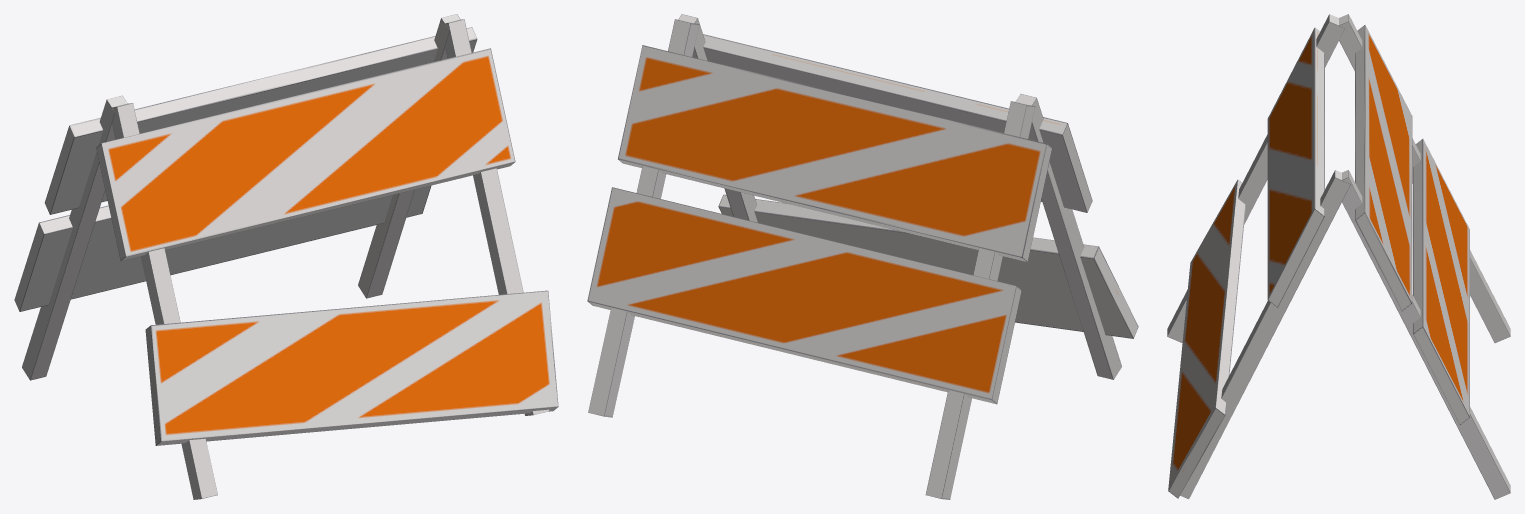
The model's file is RoadBlock_3.fbx.
3 views of the same model, side by side, from view 1: azimuth 30°, elevation 25°; view 2: azimuth 150°, elevation 25°; view 3: azimuth 270°, elevation 25° (orthographic). The views are drawn at different scales.
Visible parts, largest first — view 1: pasted__pCube2, pasted__pCube1, pasted__pasted__pCube3 (×3), pasted__pasted__pCube2, pasted__pasted__pCube4, pasted__pCube3; view 2: pasted__pasted__pCube4, pasted__pasted__pCube2, pasted__pCube2, pasted__pasted__pCube3 (×3), pasted__pCube1, pasted__pCube3; view 3: pasted__pCube2, pasted__pasted__pCube4, pasted__pasted__pCube2, pasted__pCube1, pasted__pasted__pCube3 (×3), pasted__pCube3.
Boxes of the visible parts, left/top/right/bottom form: pasted__pCube2: left=145, top=290, right=558, bottom=445; pasted__pCube1: left=96, top=48, right=515, bottom=260; pasted__pasted__pCube3 (×3): left=22, top=19, right=549, bottom=499; pasted__pasted__pCube2: left=14, top=185, right=431, bottom=311; pasted__pasted__pCube4: left=45, top=27, right=477, bottom=214; pasted__pCube3: left=358, top=14, right=460, bottom=298; pasted__pasted__pCube4: left=618, top=45, right=1052, bottom=262; pasted__pasted__pCube2: left=587, top=187, right=1021, bottom=404; pasted__pCube2: left=718, top=194, right=1138, bottom=338; pasted__pasted__pCube3 (×3): left=678, top=14, right=1121, bottom=499; pasted__pCube1: left=703, top=34, right=1092, bottom=212; pasted__pCube3: left=588, top=19, right=699, bottom=417; pasted__pCube2: left=1168, top=179, right=1245, bottom=498; pasted__pasted__pCube4: left=1355, top=25, right=1412, bottom=311; pasted__pasted__pCube2: left=1413, top=139, right=1469, bottom=424; pasted__pCube1: left=1267, top=27, right=1324, bottom=307; pasted__pasted__pCube3 (×3): left=1167, top=14, right=1510, bottom=498; pasted__pCube3: left=1342, top=170, right=1510, bottom=499.
Bounding box in the file's own units: 347 × 278 × 269.
1 material, 1 textured.
